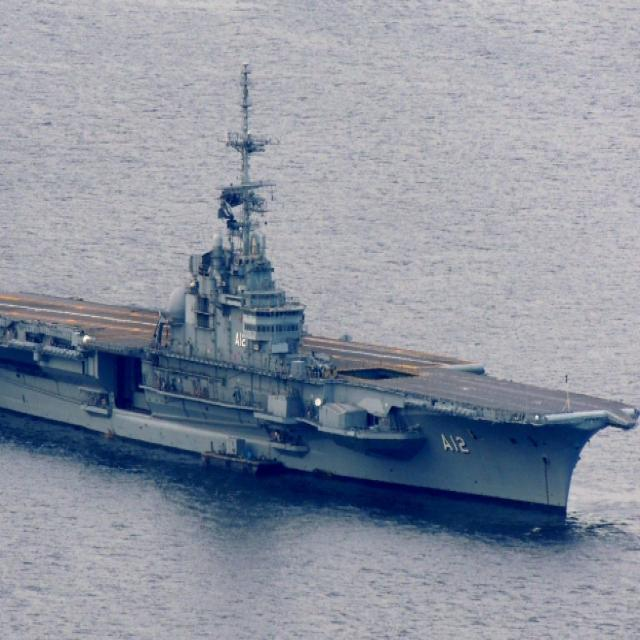Portanaves: (1, 51, 640, 539)
